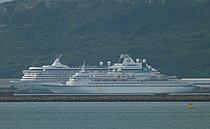Ship: (45, 50, 204, 99)
